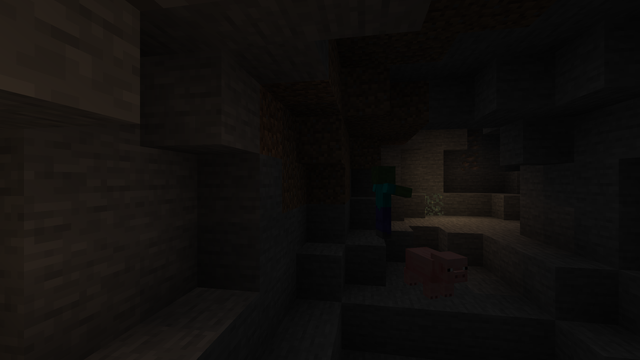cochons: (406, 246, 455, 299)
zombies: (372, 167, 395, 239)
